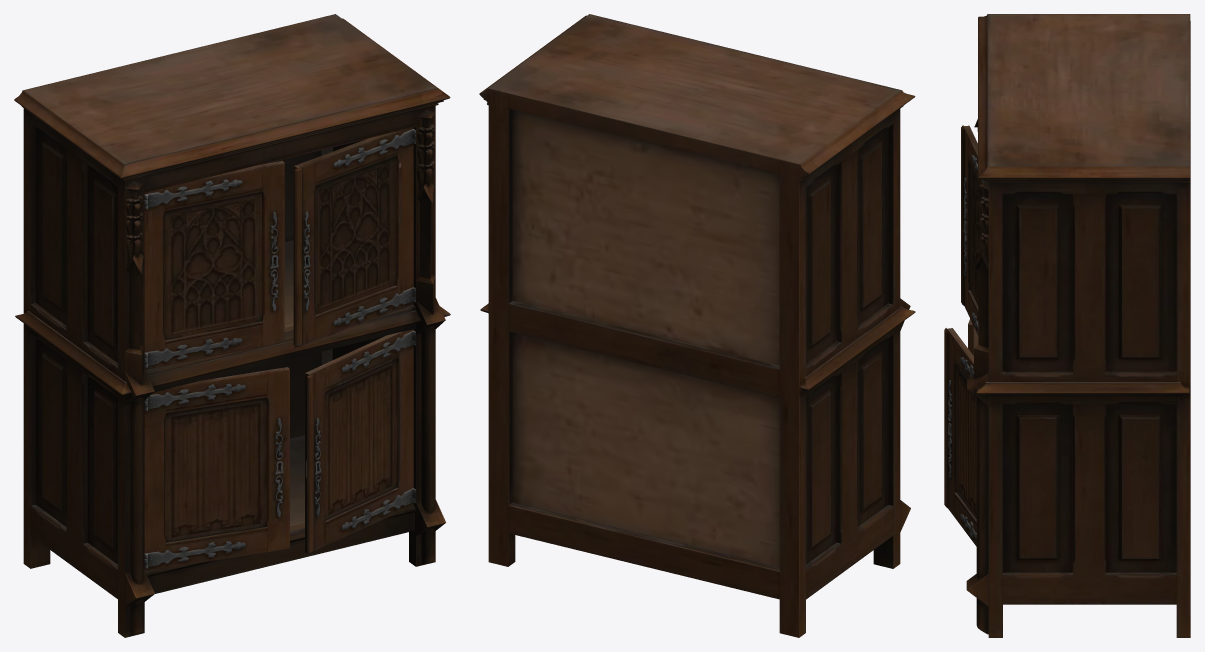
Rendered from GothicCabinet_01.glb.
3 renders of one model, left to right at view 1: azimuth 30°, elevation 25°; view 2: azimuth 150°, elevation 25°; view 3: azimuth 270°, elevation 25°, orthographic.
Parts seen in each view (by area): view 1: GothicCabinet_01_cabinet; view 2: GothicCabinet_01_cabinet; view 3: GothicCabinet_01_cabinet.
Boxes of the visible parts, left/top/right/bottom form: GothicCabinet_01_cabinet: left=14, top=14, right=450, bottom=637; GothicCabinet_01_cabinet: left=479, top=14, right=915, bottom=637; GothicCabinet_01_cabinet: left=944, top=14, right=1190, bottom=637.
Size of the model in its own units: 1.72 by 2.36 by 1.12.
Materials: 1 (1 with a texture image).
